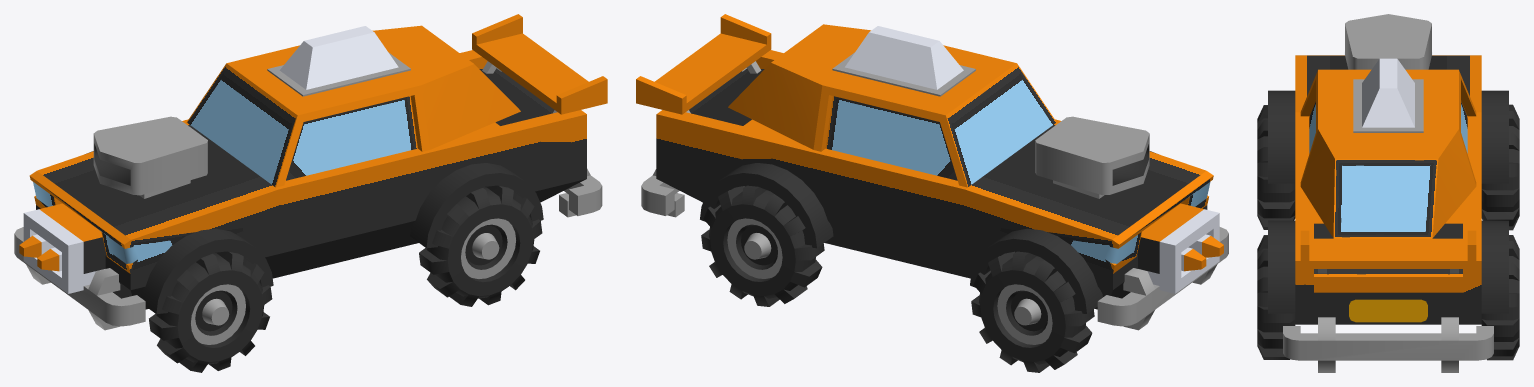
Rendered from taxi-modern.glb.
The picture shows the model from 3 angles, left to right: view 1: azimuth 30°, elevation 25°; view 2: azimuth 150°, elevation 25°; view 3: azimuth 270°, elevation 25°; orthographic projection.
Visible parts, largest first — view 1: wheel_ridges (×2), body_topSteep, body_frontSports, body_standard, body_backFins, body_topBackSport, wheel_coverStandard (×2), detail_engine, spoiler_fins, detail_taxi, weapon_turretSmall, bumper_detailed (×2); view 2: wheel_ridges (×2), body_topSteep, body_frontSports, body_standard, body_backFins, body_topBackSport, wheel_coverStandard (×2), detail_engine, spoiler_fins, detail_taxi, weapon_turretSmall, bumper_detailed (×2); view 3: body_topBackSport, body_backFins, wheel_coverStandard (×4), wheel_ridges (×4), bumper_detailed, body_topSteep, spoiler_fins, detail_taxi, detail_engine, body_frontSports, detail_licensePlateWide, body_standard.
Part boxes in pixels (bbox=[...]): wheel_ridges (×2): bbox=[149, 185, 542, 372]; body_topSteep: bbox=[186, 45, 429, 187]; body_frontSports: bbox=[29, 120, 278, 309]; body_standard: bbox=[184, 119, 432, 278]; body_backFins: bbox=[430, 50, 586, 202]; body_topBackSport: bbox=[372, 25, 520, 149]; wheel_coverStandard (×2): bbox=[140, 163, 543, 314]; detail_engine: bbox=[93, 116, 207, 198]; spoiler_fins: bbox=[472, 14, 607, 114]; detail_taxi: bbox=[267, 26, 410, 96]; weapon_turretSmall: bbox=[19, 203, 105, 293]; bumper_detailed (×2): bbox=[14, 168, 602, 330]; wheel_ridges (×2): bbox=[701, 185, 1094, 372]; body_topSteep: bbox=[813, 45, 1056, 187]; body_frontSports: bbox=[965, 120, 1213, 309]; body_standard: bbox=[810, 119, 1058, 278]; body_backFins: bbox=[656, 50, 812, 202]; body_topBackSport: bbox=[728, 24, 870, 149]; wheel_coverStandard (×2): bbox=[700, 163, 1102, 313]; detail_engine: bbox=[1035, 116, 1149, 198]; spoiler_fins: bbox=[636, 14, 771, 114]; detail_taxi: bbox=[832, 26, 975, 96]; weapon_turretSmall: bbox=[1137, 203, 1223, 293]; bumper_detailed (×2): bbox=[641, 169, 1228, 330]; body_topBackSport: bbox=[1300, 129, 1476, 238]; body_backFins: bbox=[1295, 186, 1481, 324]; wheel_coverStandard (×4): bbox=[1268, 90, 1508, 313]; wheel_ridges (×4): bbox=[1257, 104, 1519, 360]; bumper_detailed: bbox=[1283, 317, 1493, 372]; body_topSteep: bbox=[1300, 69, 1476, 185]; spoiler_fins: bbox=[1300, 230, 1476, 273]; detail_taxi: bbox=[1353, 58, 1423, 132]; detail_engine: bbox=[1345, 14, 1431, 69]; body_frontSports: bbox=[1295, 55, 1481, 112]; detail_licensePlateWide: bbox=[1349, 299, 1427, 322]; body_standard: bbox=[1295, 112, 1481, 186].
Size of the model in its own units: 3.45 by 1.51 by 1.49.
Materials: 1 (1 with a texture image).
